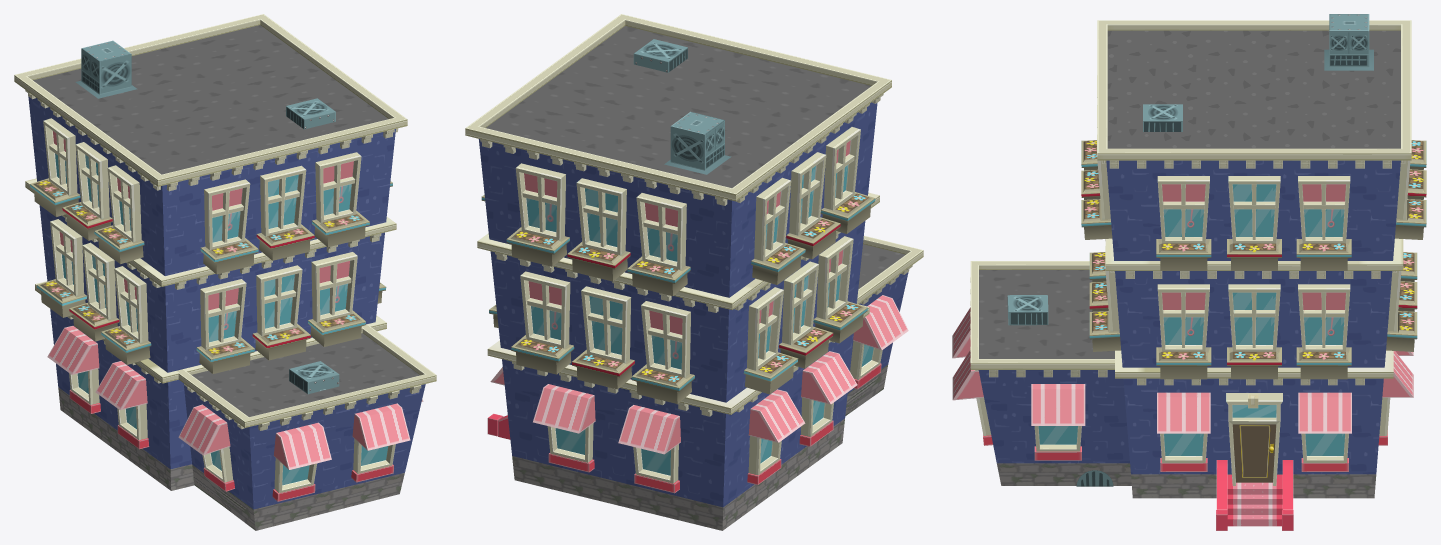
The model's file is building1.obj.
3 renders of one model, left to right at view 1: azimuth 30°, elevation 25°; view 2: azimuth 150°, elevation 25°; view 3: azimuth 270°, elevation 25°, orthographic. The views are drawn at different scales.
Visible parts, largest first — view 1: pCube31, pCube15, pCube2, pCube28, pCube43, pCube7.002, pCube3.002, pCube11.003, pCube11.002, pCube3.003, pCube7.003, pCube26.009 (+31 smaller); view 2: pCube15, pCube31, pCube43, pCube11.005, pCube7.005, pCube3.005, pCube3.004, pCube7.004, pCube11.004, pCube28, pCube26.006, pCube26.007 (+30 smaller); view 3: pCube15, pCube31, pCube28, pCube2, pCube18, pCube3, pCube3.001, pCube11, pCube11.001, pCube7, pCube7.001, pCube20 (+34 smaller).
Part boxes in pixels (x1,y1,x2,y2): pCube31: [14, 14, 407, 186]; pCube15: [28, 96, 395, 490]; pCube2: [183, 383, 425, 530]; pCube28: [176, 324, 436, 427]; pCube43: [75, 40, 137, 98]; pCube7.002: [256, 265, 302, 336]; pCube3.002: [200, 279, 246, 349]; pCube11.003: [315, 152, 361, 223]; pCube11.002: [311, 252, 357, 322]; pCube3.003: [204, 179, 250, 250]; pCube7.003: [260, 165, 306, 236]; pCube26.009: [273, 422, 331, 469]; pCube15: [478, 102, 877, 530]; pCube31: [465, 14, 891, 201]; pCube43: [664, 111, 731, 174]; pCube11.005: [636, 193, 686, 269]; pCube7.005: [576, 178, 626, 255]; pCube3.005: [515, 163, 565, 240]; pCube3.004: [520, 271, 570, 348]; pCube7.004: [581, 286, 631, 363]; pCube11.004: [641, 301, 690, 377]; pCube28: [857, 235, 923, 304]; pCube26.006: [533, 384, 595, 433]; pCube26.007: [618, 405, 680, 454]; pCube15: [1106, 160, 1400, 498]; pCube31: [1097, 20, 1411, 160]; pCube28: [970, 261, 1114, 369]; pCube2: [978, 370, 1131, 485]; pCube18: [1226, 393, 1282, 485]; pCube3: [1157, 284, 1209, 351]; pCube3.001: [1157, 176, 1209, 243]; pCube11: [1298, 284, 1350, 351]; pCube11.001: [1298, 176, 1350, 243]; pCube7: [1228, 284, 1280, 351]; pCube7.001: [1228, 176, 1280, 243]; pCube20: [1227, 474, 1282, 526].
Size of the model in its own units: 0.1381 by 0.1613 by 0.1764.
